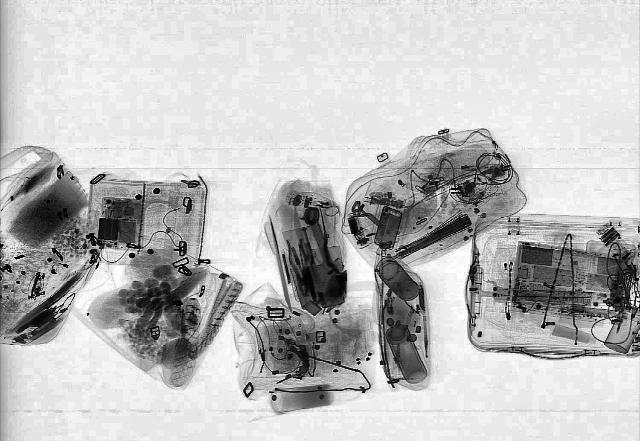Pliers: (283, 240, 317, 296)
